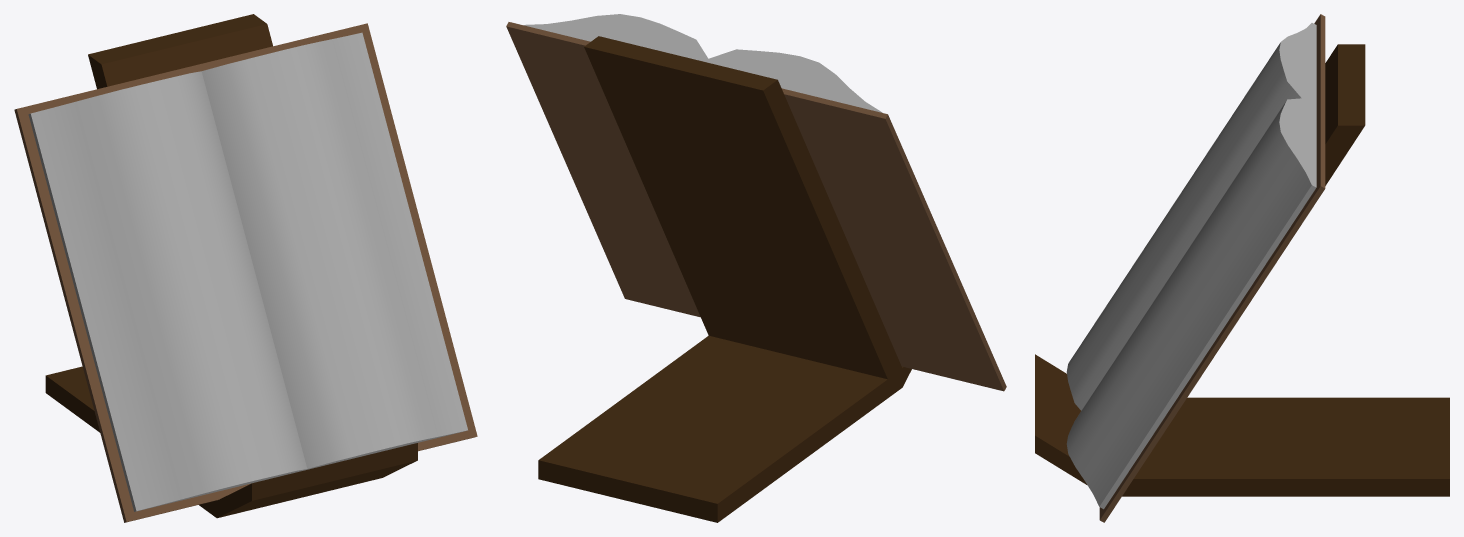
Rendered from Recipe Book.fbx.
The picture shows the model from 3 angles, left to right: view 1: azimuth 30°, elevation 25°; view 2: azimuth 150°, elevation 25°; view 3: azimuth 270°, elevation 25°; orthographic projection. The views are drawn at different scales.
Visible parts, largest first — view 1: Recipe_Book; view 2: Recipe_Book; view 3: Recipe_Book.
Part boxes in pixels (x1=…): Recipe_Book: x1=14, y1=14, x2=477, y2=522; Recipe_Book: x1=506, y1=14, x2=1006, y2=522; Recipe_Book: x1=1035, y1=14, x2=1449, y2=522.
Bounding box in the file's own units: 42.33 × 42.56 × 43.1.
